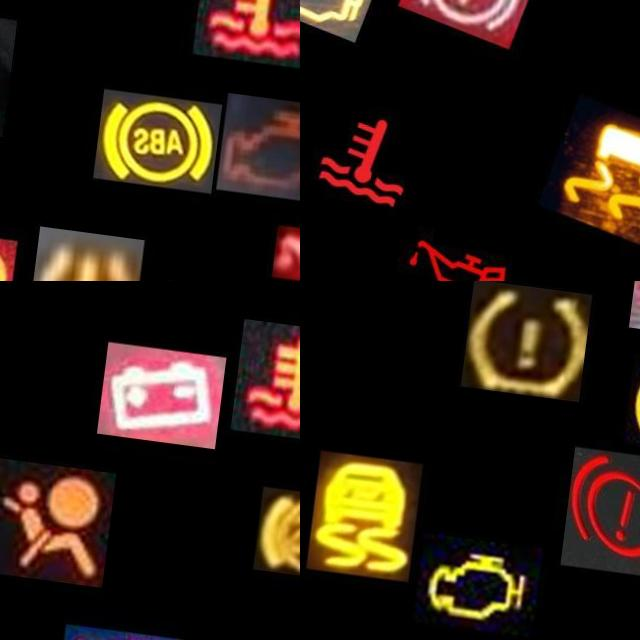Engine cooling system: (303, 74, 460, 232), (233, 306, 300, 429), (196, 0, 300, 56)
